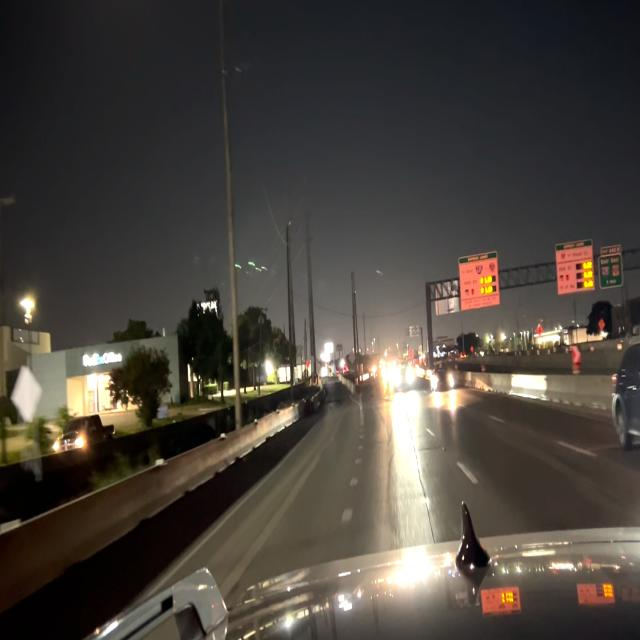back-of-sign: (434, 275, 460, 322), (404, 321, 422, 339)
